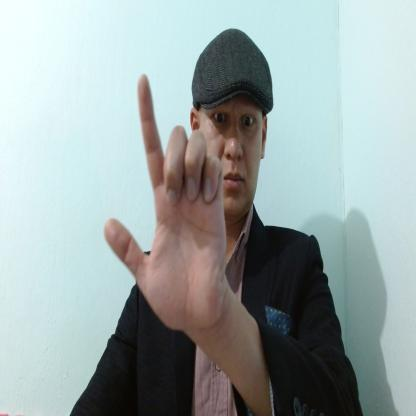L: (103, 72, 226, 332)
